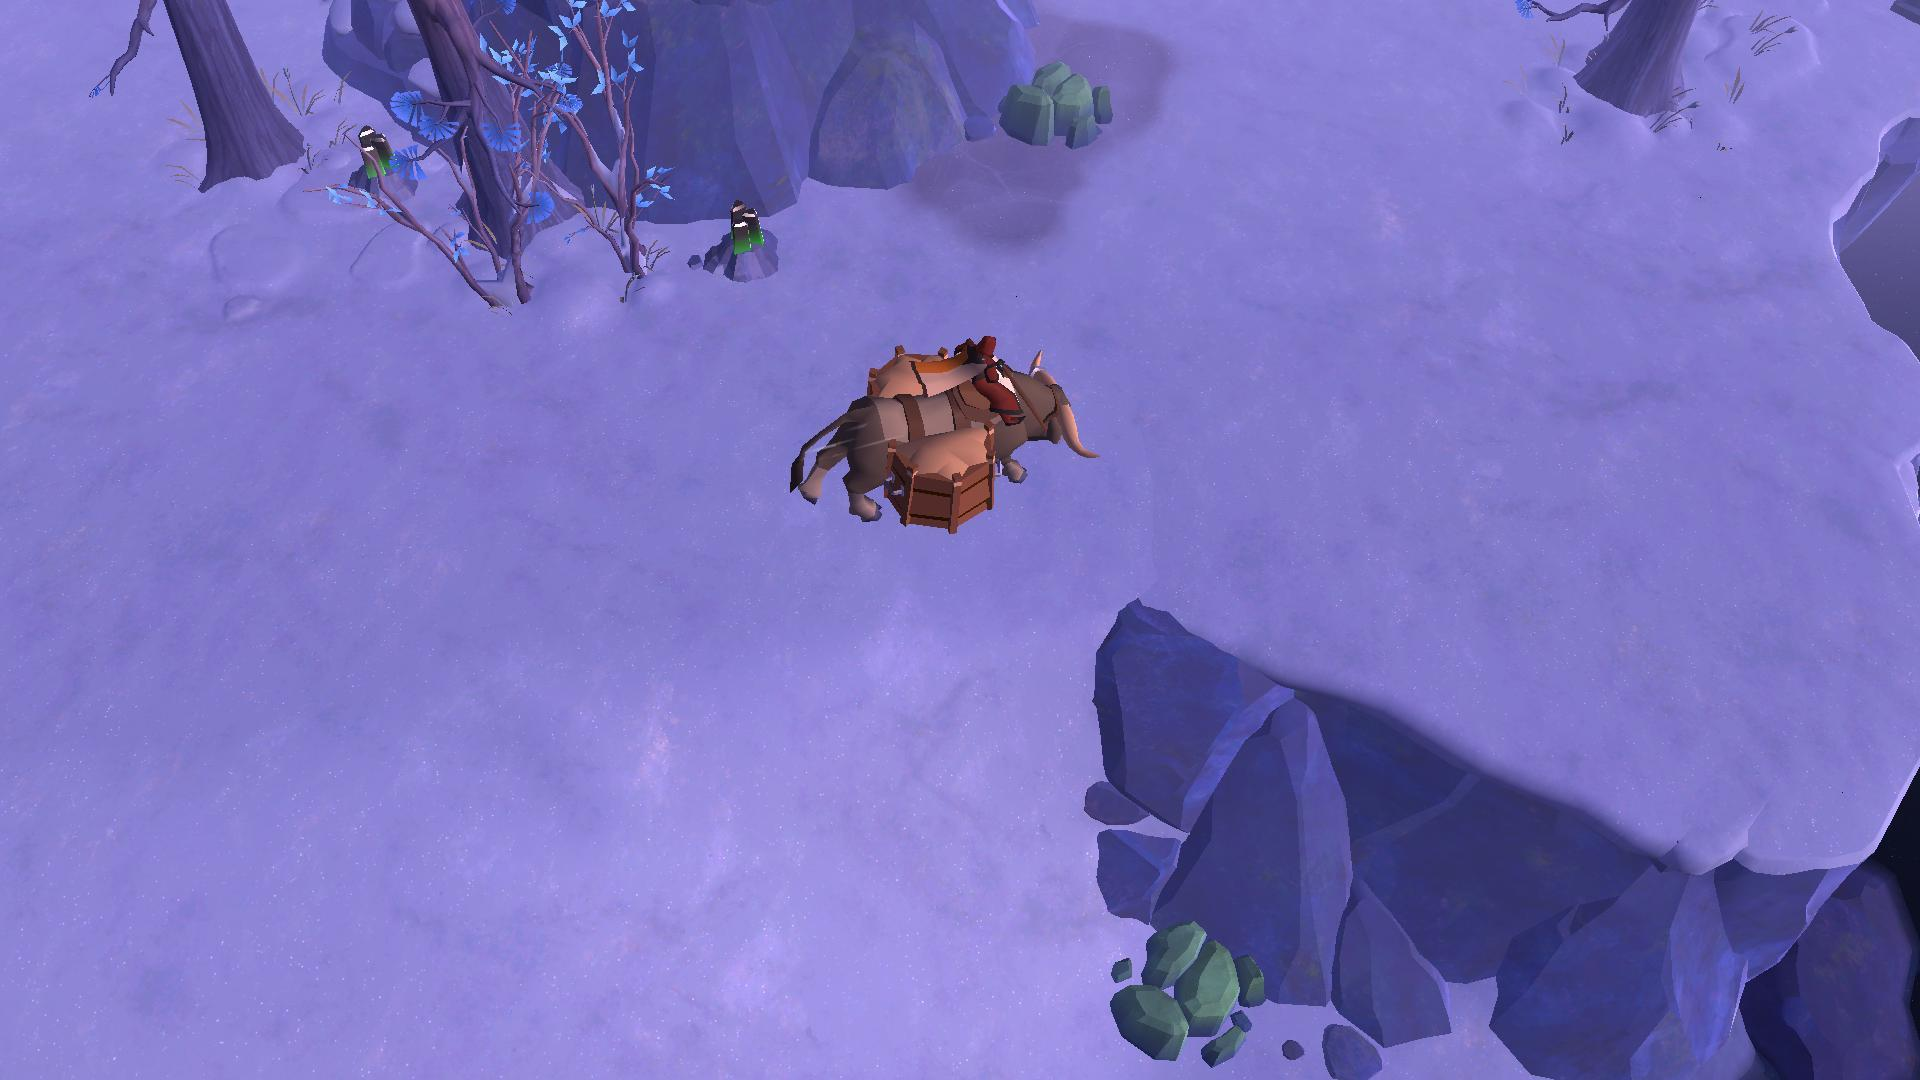ore_t3: (345, 124, 396, 182), (719, 196, 761, 262)
rock_t3: (1092, 914, 1270, 1065), (992, 50, 1129, 157)
